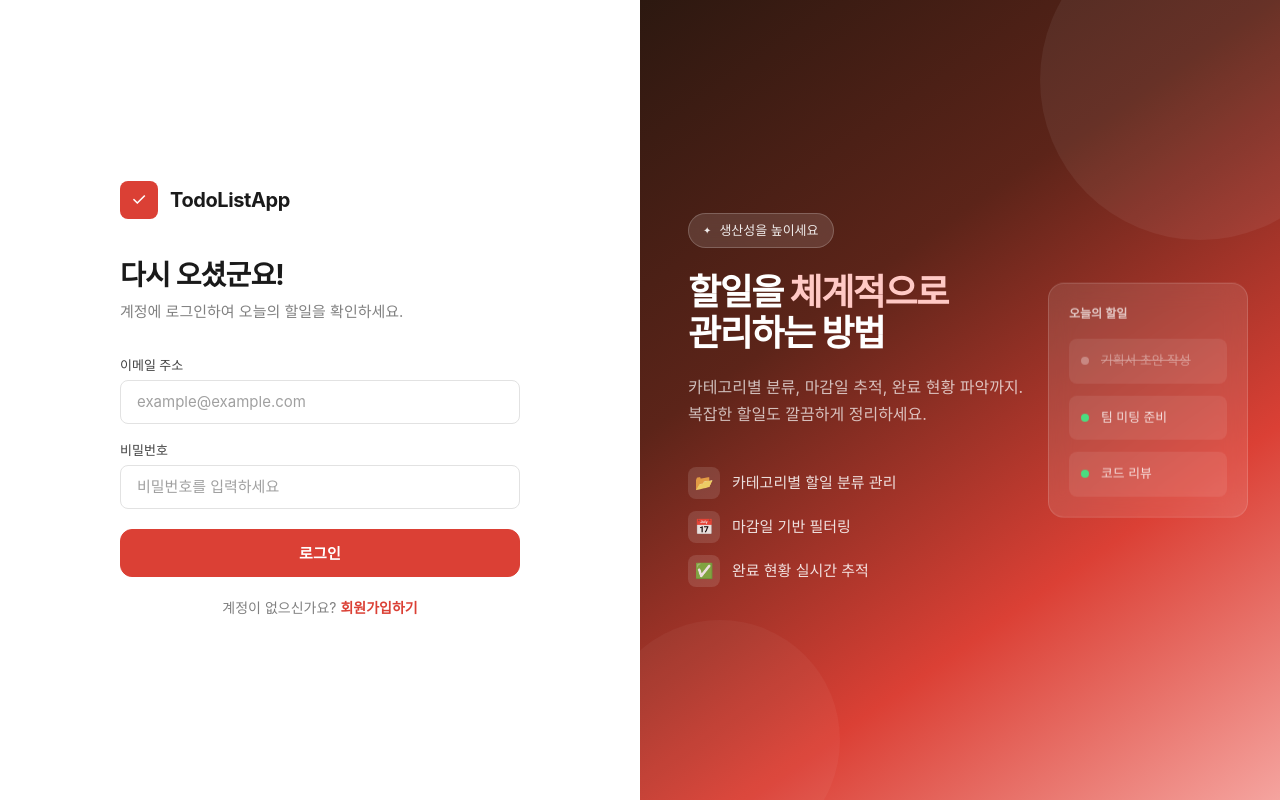
Scenario: LoginPage › 비밀번호 빈값으로 제출 시 에러가 표시된다
Type "test@example.com" into the field with test id "email-input" at (320, 402), box [120,380,520,424]
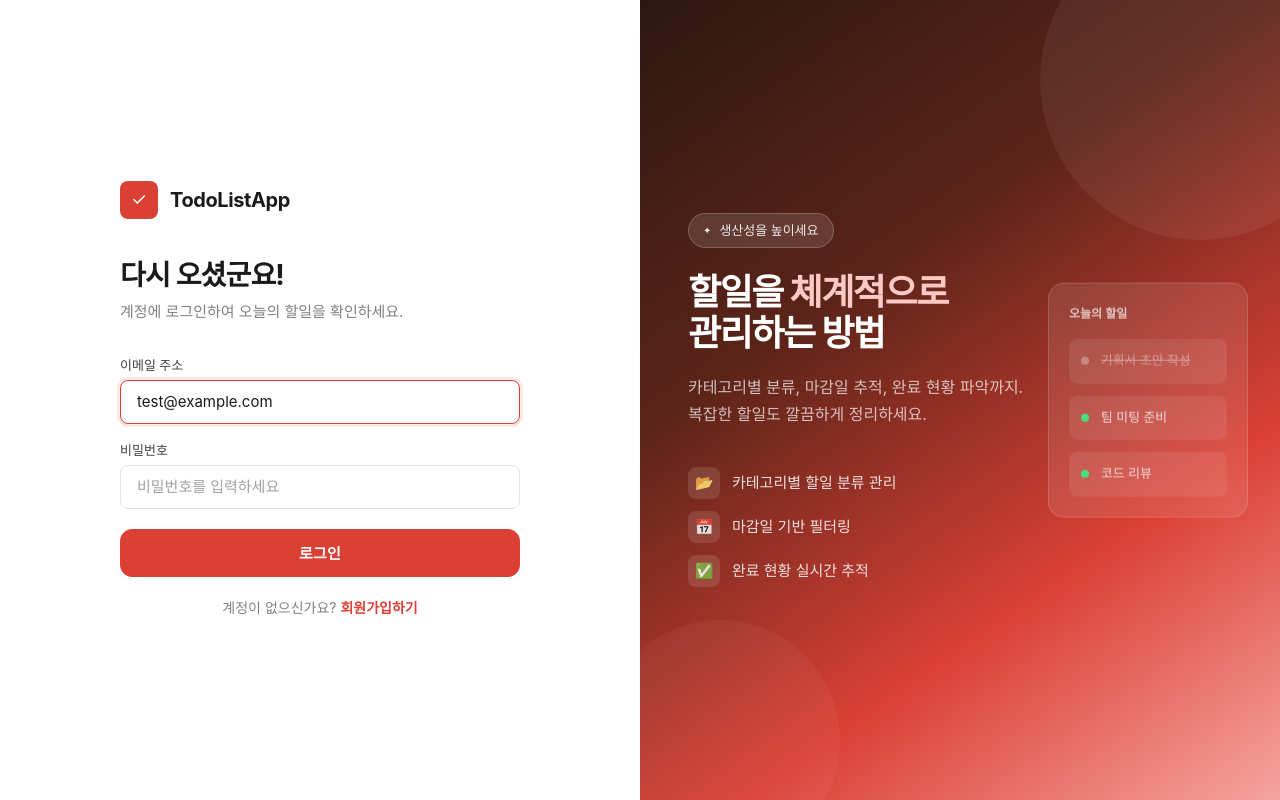
Click the button with test id "login-submit" at (320, 553), box [120,529,520,577]
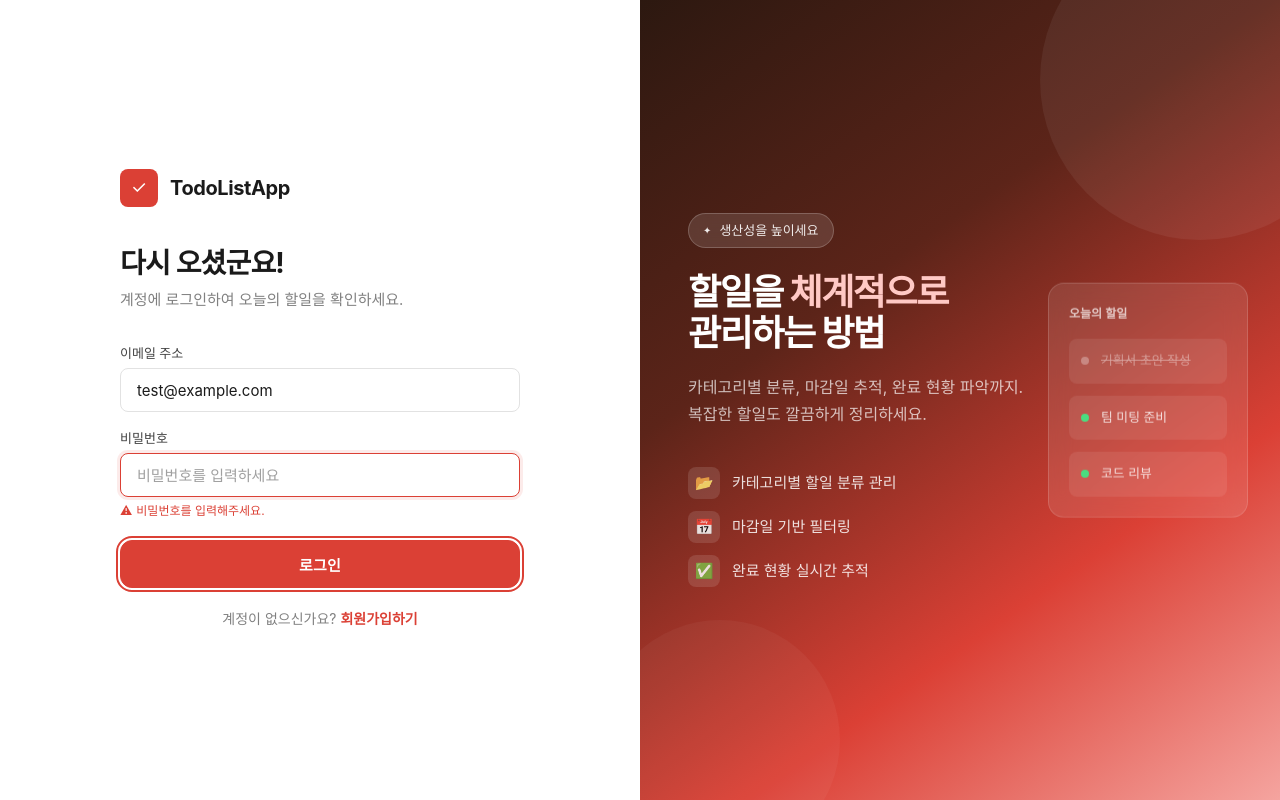
Check: the message reads "비밀번호를 입력해주세요.", box [136,503,265,518]
